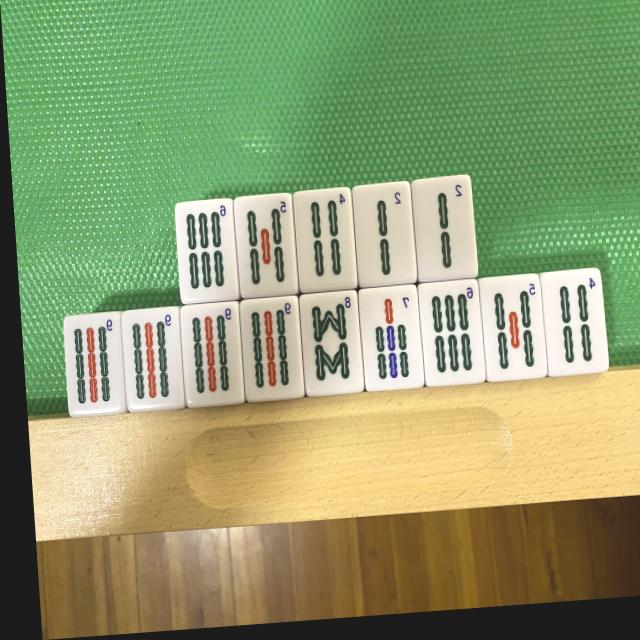2B: (411, 176, 477, 280), (353, 182, 416, 285)
4B: (541, 270, 609, 376), (294, 188, 357, 290)
5B: (480, 275, 546, 381), (234, 194, 299, 296)
6B: (420, 281, 485, 386), (176, 199, 238, 301)
7B: (359, 286, 424, 390)
8B: (299, 291, 365, 397)
9B: (241, 297, 304, 400), (181, 303, 244, 404), (123, 307, 184, 409), (64, 314, 125, 414)
